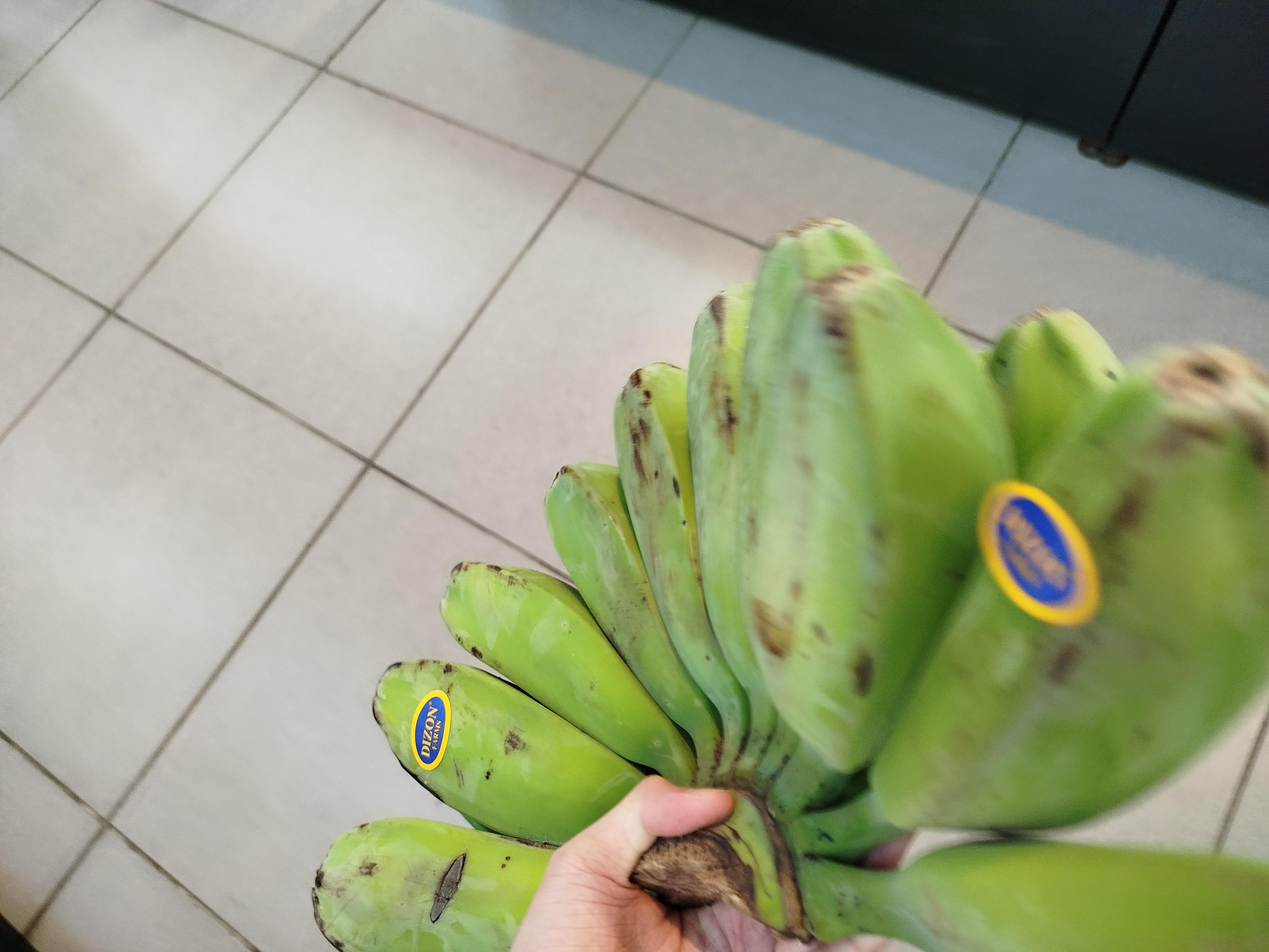underripe: (312, 219, 1269, 952)
